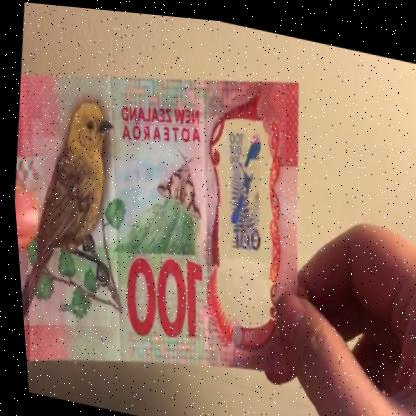100B: (204, 110, 278, 313)
